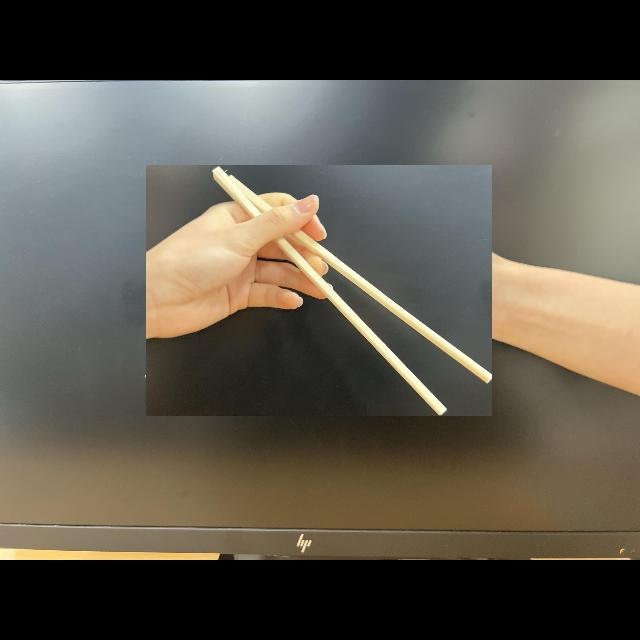stick: (146, 166, 492, 416)
